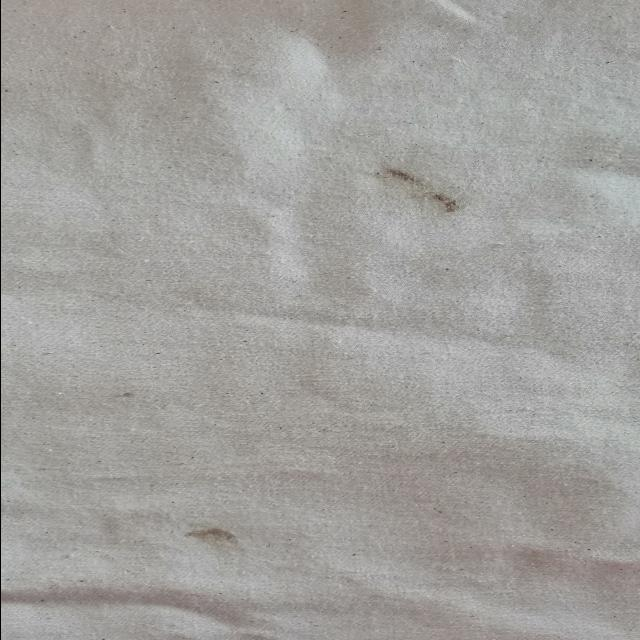taaaches: (366, 160, 478, 218), (182, 522, 250, 554)
